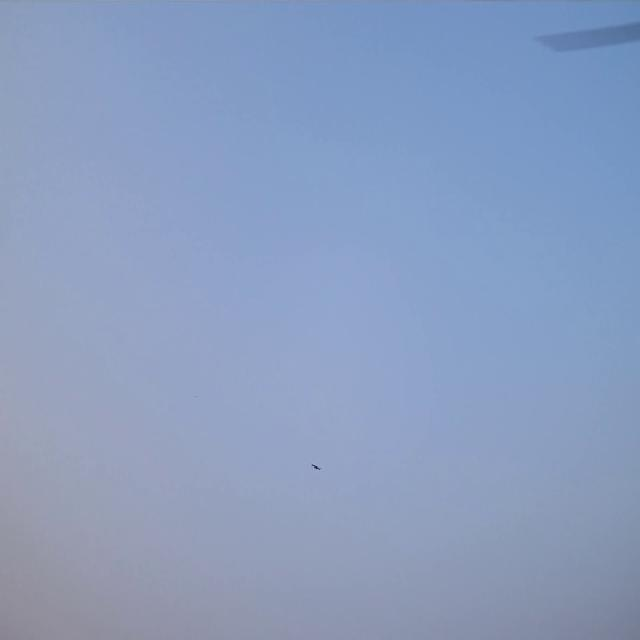UAV: (310, 461, 322, 471)
